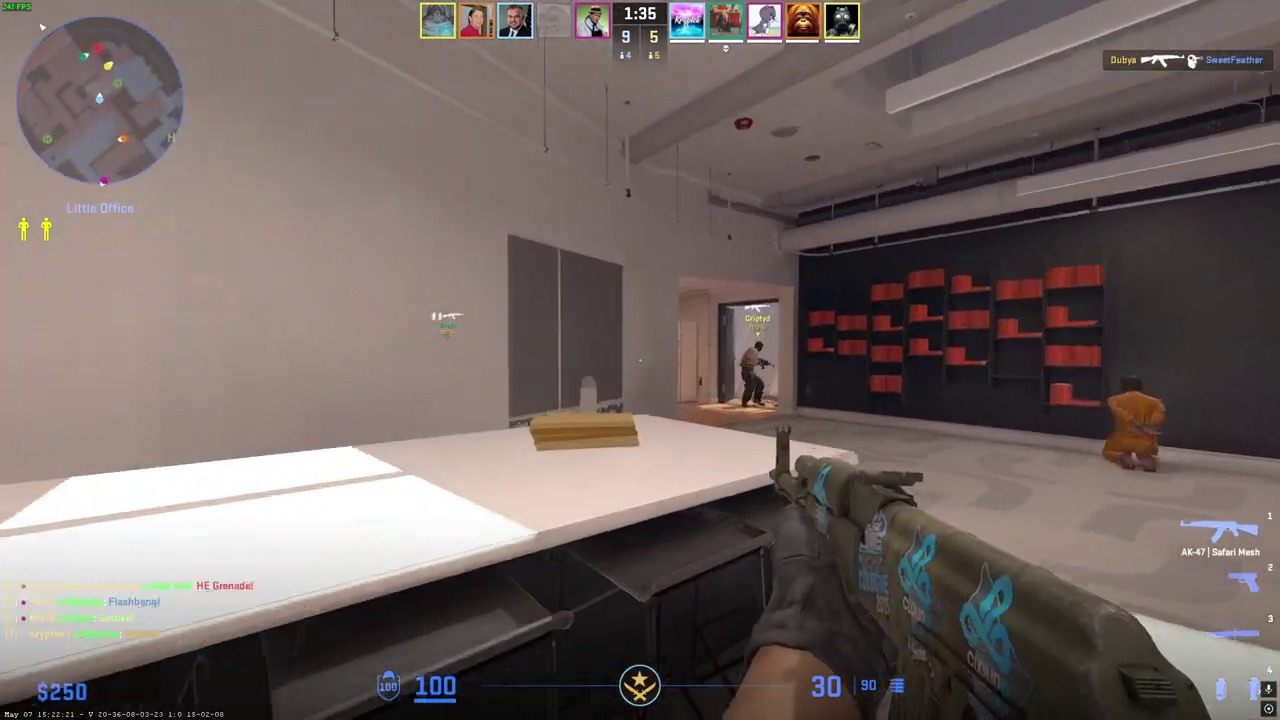Terrorist: (739, 341, 768, 407)
